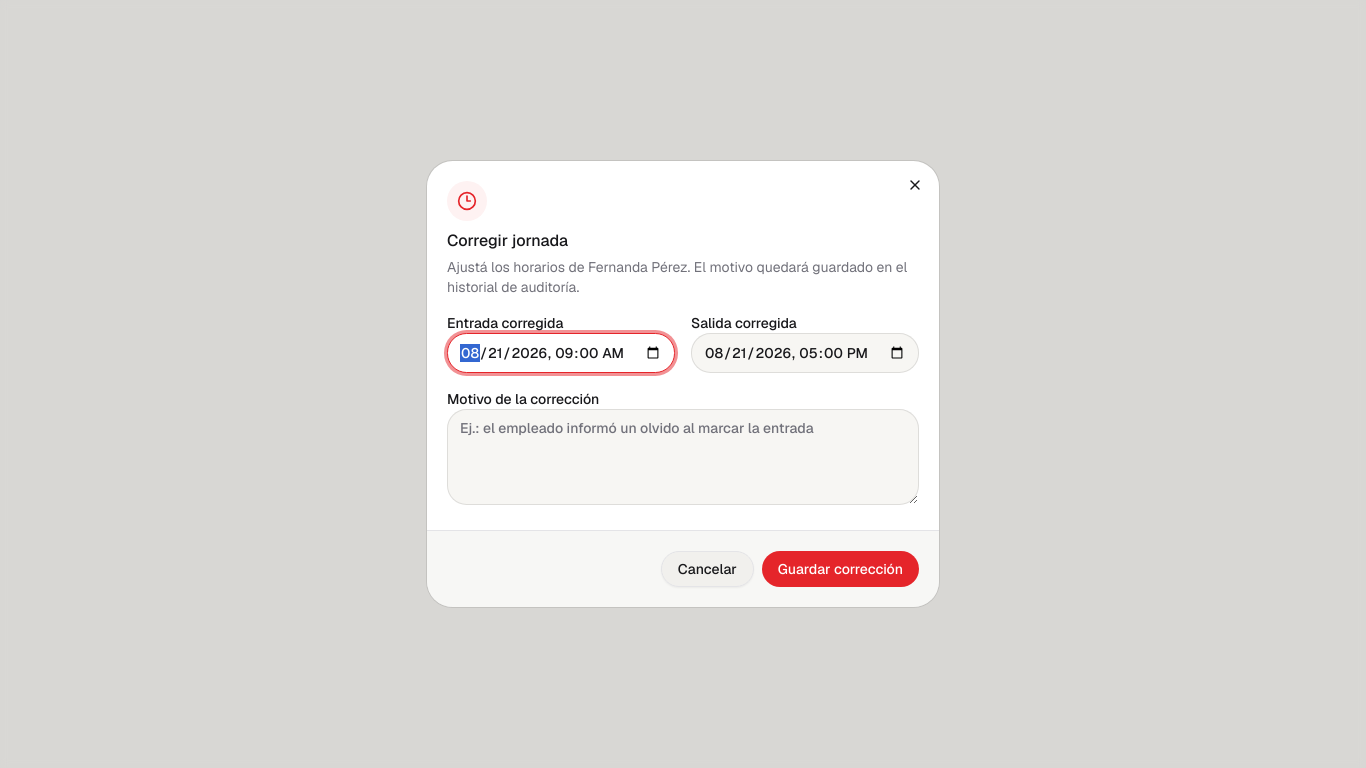
it: requires a reason before submitting a manager correction
Click the button "Guardar corrección" at (840, 569), box [762,551,919,587]
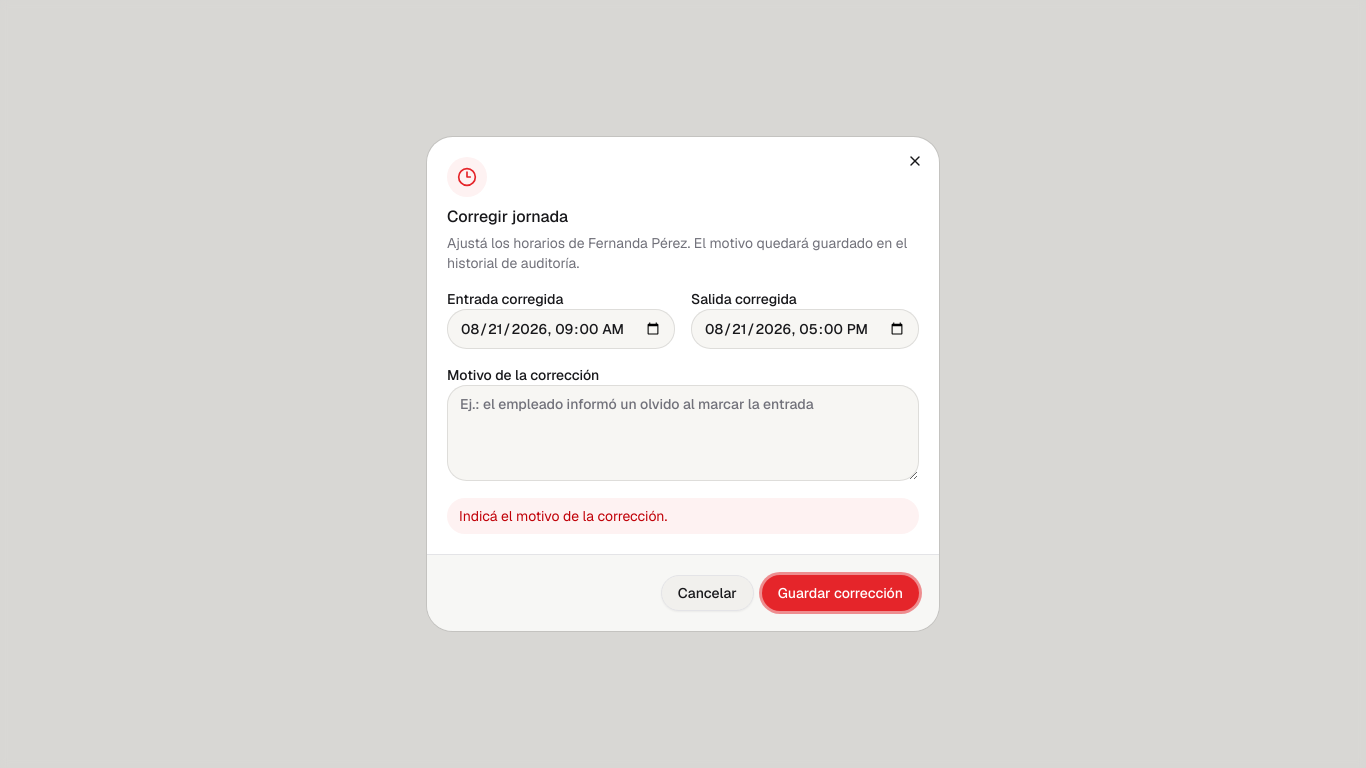
Check: the message reads "Indicá el motivo de la corrección.", box [459,507,667,525]
